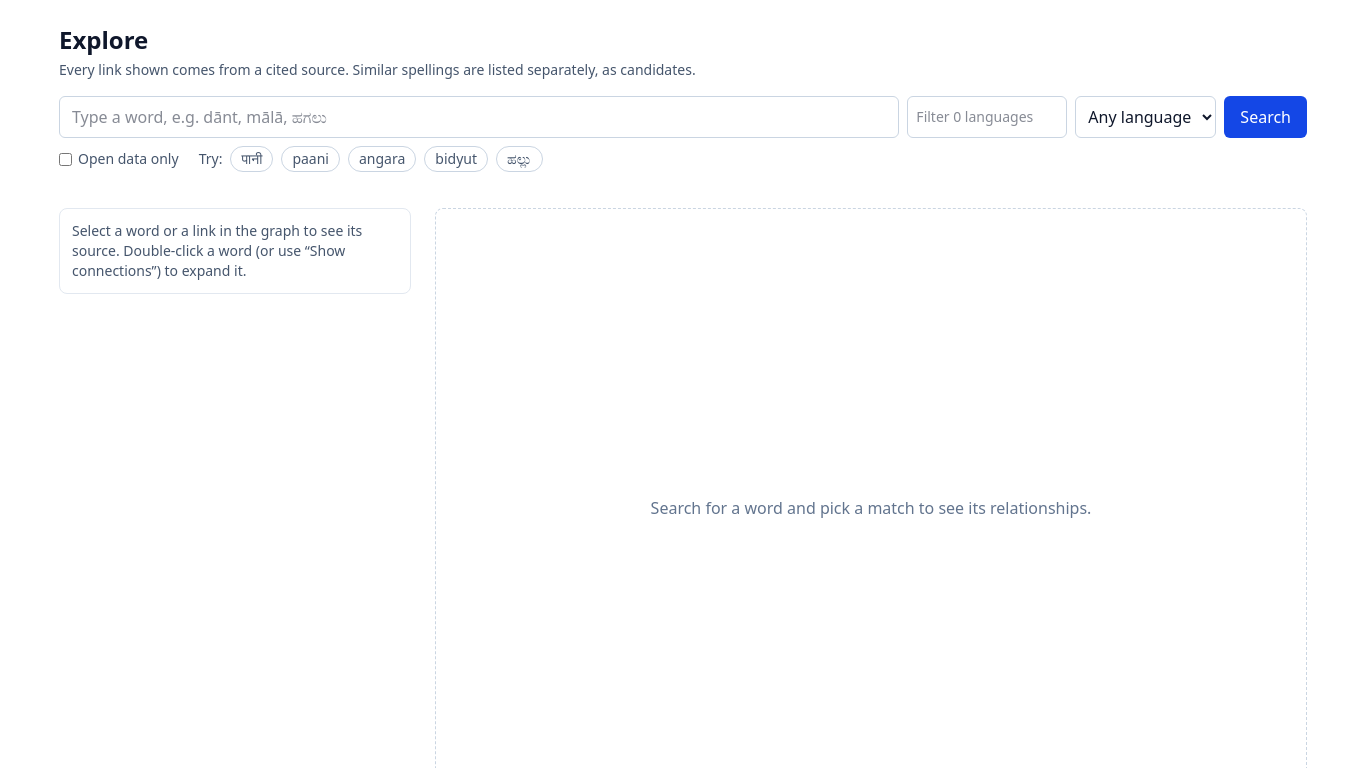
Scenario: ExplorePage follows the URL and drops stale data › ignores a slow earlier search that answers after a later one
Type "slow" into the field labelled "word". click: (479, 117)
box: [59,96,899,138]
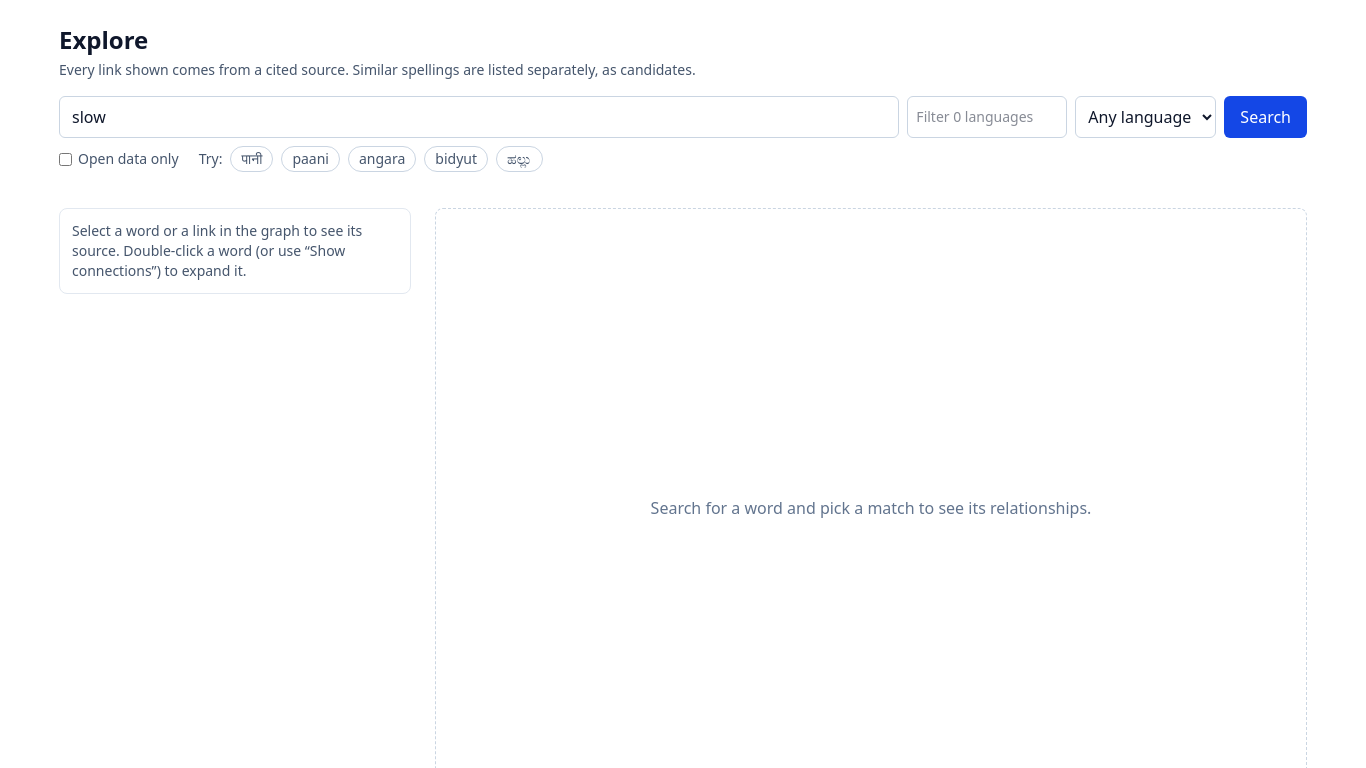
Click the button "Search". click: (1266, 117)
box: [1224,96,1307,138]
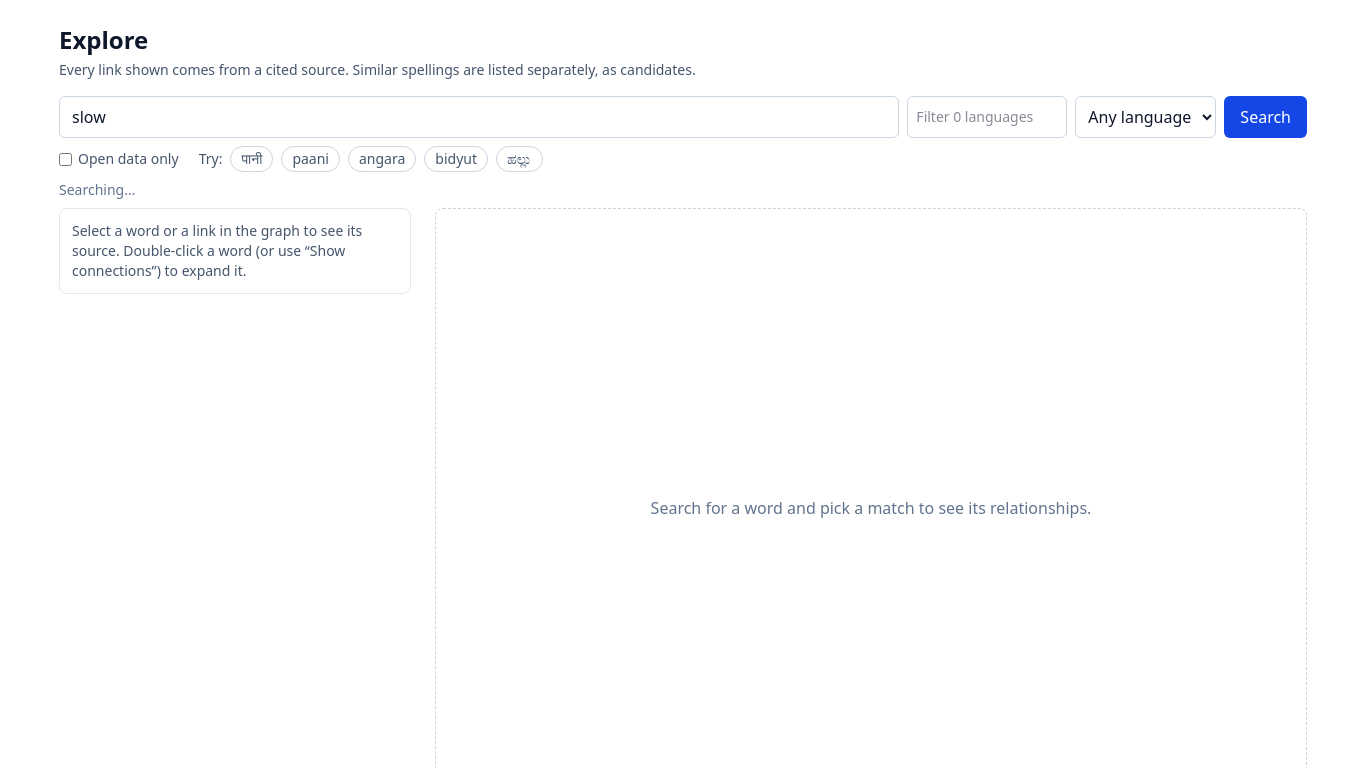
Replace the text in the field named "word" with "fast". click: (479, 117)
box: [59,96,899,138]
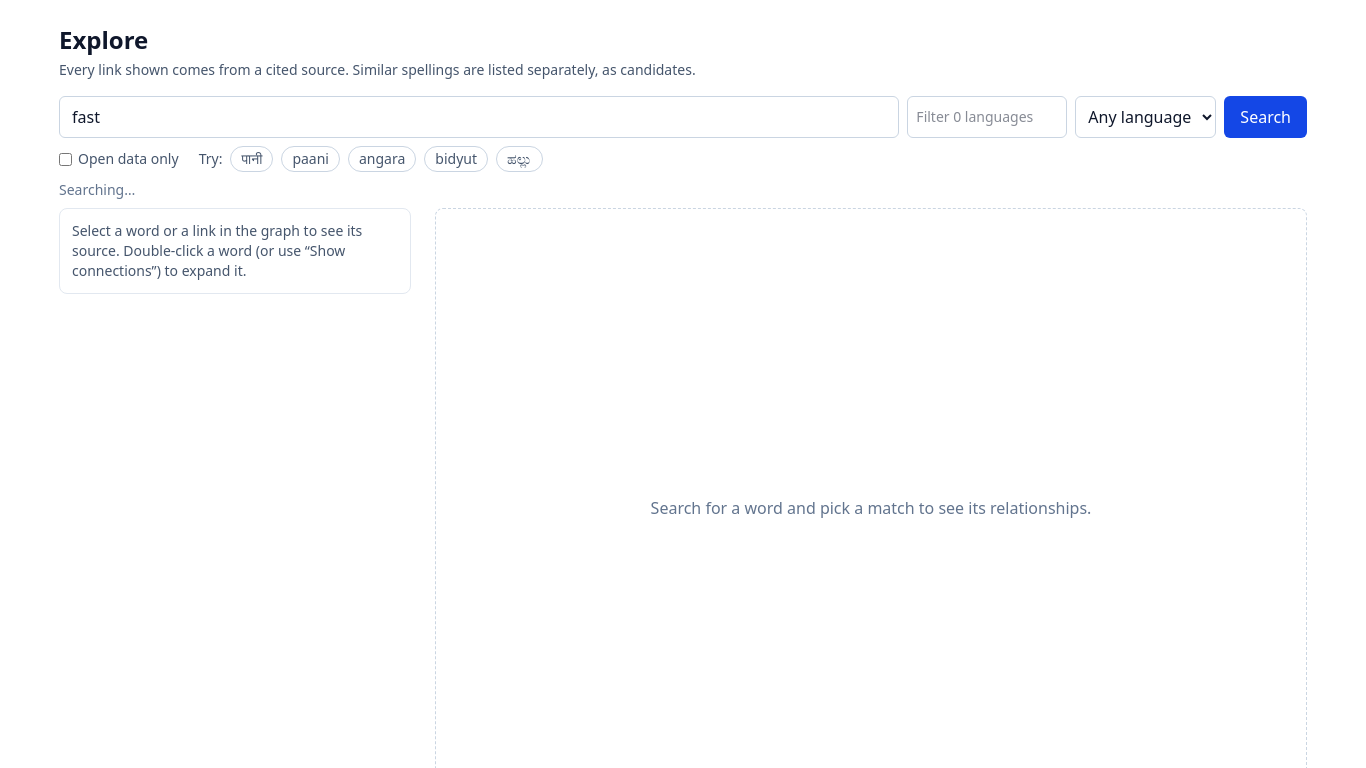
Click the button "Search". click: (1266, 117)
box: [1224,96,1307,138]
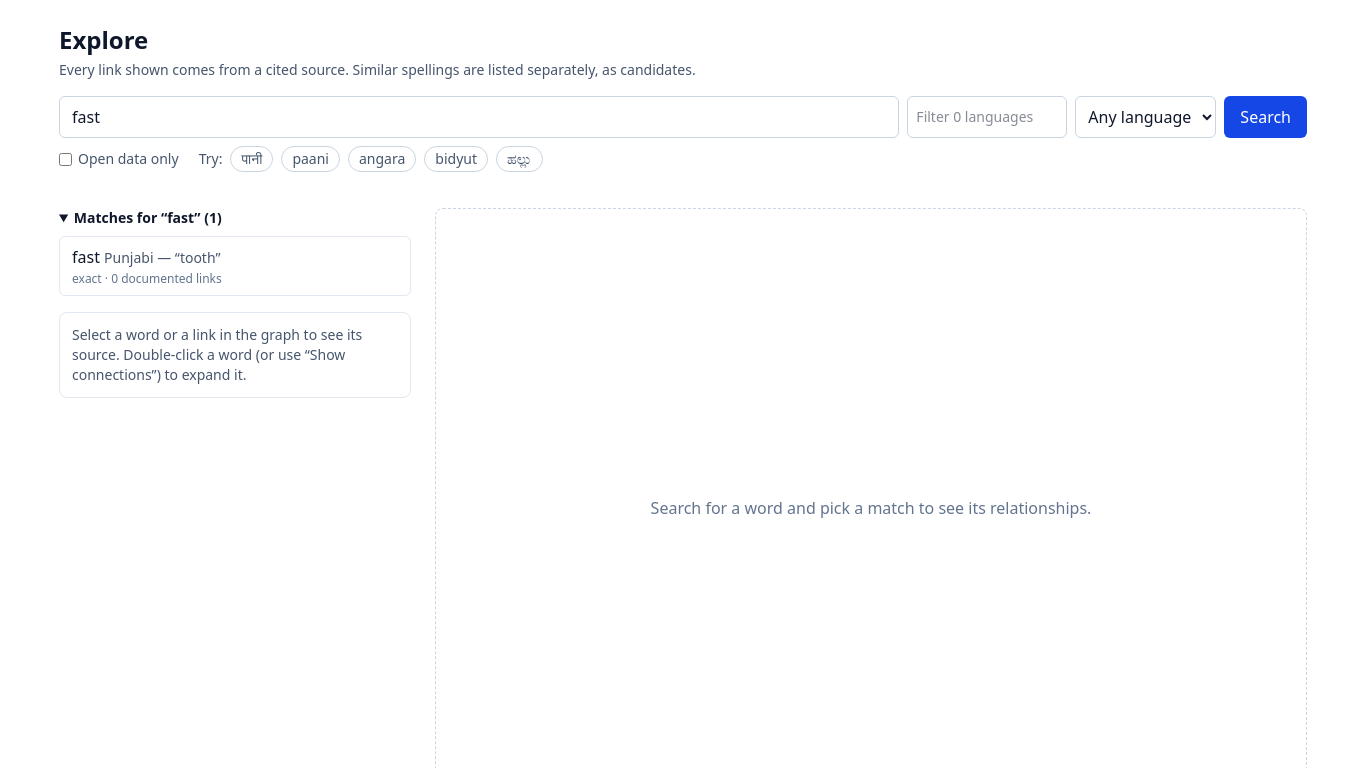
Expected: the message is empty, [59,180,1307,200]
Result: the heading "Matches for “fast” (1)" is shown at [74,208,222,227]
